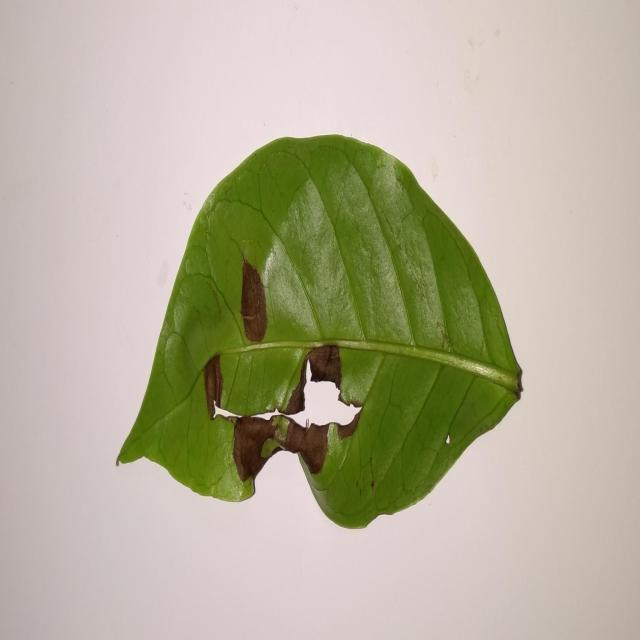Enfermedad-Antracnosis: (117, 134, 524, 532)
